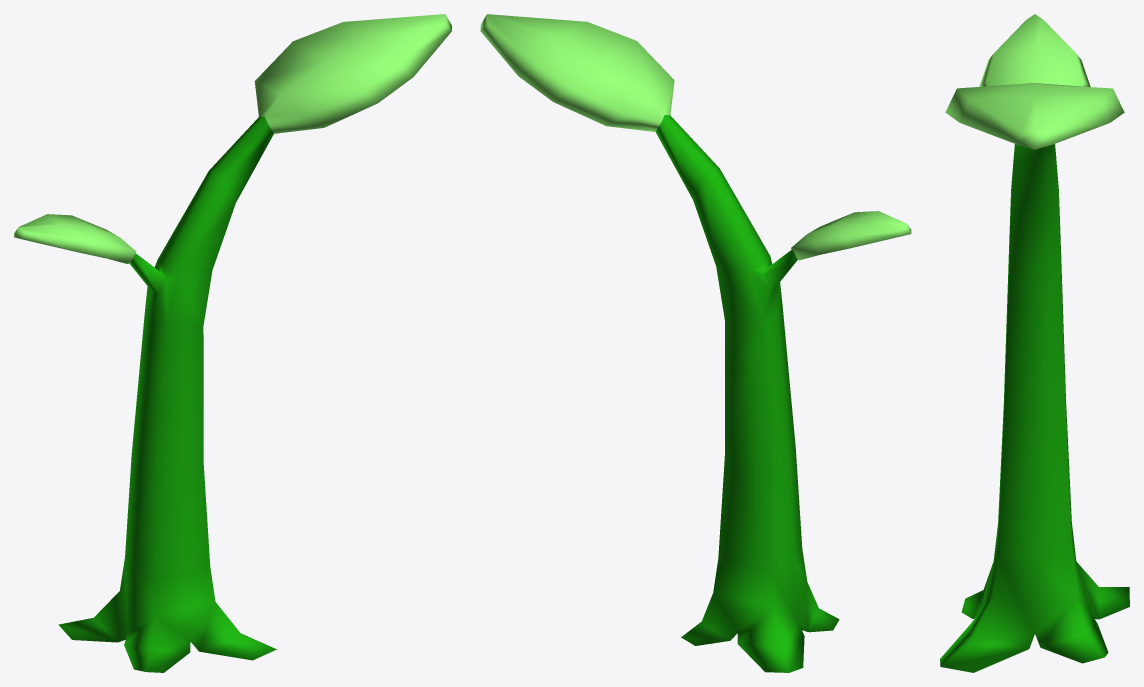
Rendered from Plant.fbx.
3 renders of one model, left to right at view 1: azimuth 30°, elevation 25°; view 2: azimuth 150°, elevation 25°; view 3: azimuth 270°, elevation 25°, orthographic. The views are drawn at different scales.
Visible parts, largest first — view 1: Cube; view 2: Cube; view 3: Cube.
Boxes of the visible parts, bbox=[...] form: Cube: bbox=[14, 14, 451, 672]; Cube: bbox=[480, 14, 911, 672]; Cube: bbox=[940, 14, 1129, 672].
Bounding box in the file's own units: 44.8 × 55.38 × 14.24.
